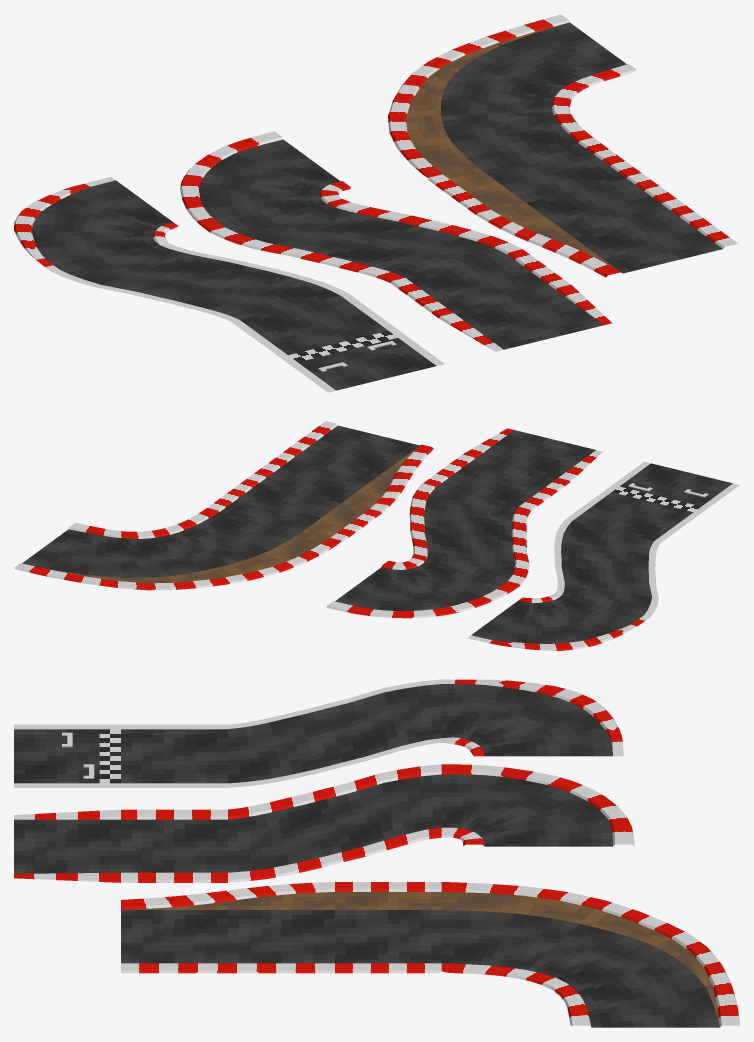
Rendered from KartTrackPieces.fbx.
3 views of the same model, one above another, from view 1: azimuth 30°, elevation 25°; view 2: azimuth 150°, elevation 25°; view 3: azimuth 270°, elevation 25° (orthographic). The views are drawn at different scales.
Parts seen in each view (by area): view 1: racetrack_curve_fast, racetrack_fast_to_straight, racetrack_halfbend, track_halfbend, racetrack_straight_fast, racetrack_halfstraight, racetrack_to_track_conversion, track_halfstraight, track_finishline, racetrack_curve_out, racetrack_curve_in, track_curve_in (+1 smaller); view 2: racetrack_curve_fast, racetrack_fast_to_straight, racetrack_halfbend, track_halfbend, racetrack_straight_fast, racetrack_halfstraight, racetrack_to_track_conversion, track_halfstraight, track_finishline, racetrack_curve_out, racetrack_curve_in, track_curve_out (+1 smaller); view 3: racetrack_curve_fast, racetrack_fast_to_straight, racetrack_halfbend, track_halfbend, racetrack_straight_fast, racetrack_halfstraight, racetrack_to_track_conversion, track_halfstraight, track_finishline, racetrack_curve_in, racetrack_curve_out, track_curve_out (+1 smaller).
Part boxes in pixels (left/top/right/bottom): racetrack_curve_fast: left=388, top=14, right=636, bottom=177; racetrack_fast_to_straight: left=476, top=173, right=737, bottom=277; racetrack_halfbend: left=210, top=199, right=521, bottom=282; track_halfbend: left=51, top=243, right=347, bottom=321; racetrack_straight_fast: left=428, top=137, right=641, bottom=214; racetrack_halfstraight: left=390, top=249, right=570, bottom=318; racetrack_to_track_conversion: left=439, top=284, right=611, bottom=351; track_halfstraight: left=232, top=293, right=396, bottom=356; track_finishline: left=280, top=328, right=444, bottom=392; racetrack_curve_out: left=185, top=131, right=350, bottom=192; racetrack_curve_in: left=180, top=174, right=341, bottom=232; track_curve_in: left=14, top=215, right=167, bottom=271; racetrack_curve_fast: left=14, top=508, right=341, bottom=590; racetrack_fast_to_straight: left=247, top=421, right=433, bottom=512; racetrack_halfbend: left=409, top=483, right=530, bottom=585; track_halfbend: left=554, top=519, right=660, bottom=617; racetrack_straight_fast: left=207, top=479, right=381, bottom=541; racetrack_halfstraight: left=423, top=454, right=570, bottom=510; racetrack_to_track_conversion: left=463, top=428, right=602, bottom=481; track_halfstraight: left=565, top=490, right=699, bottom=542; track_finishline: left=605, top=461, right=739, bottom=513; racetrack_curve_out: left=326, top=560, right=435, bottom=618; racetrack_curve_in: left=403, top=558, right=520, bottom=616; track_curve_out: left=467, top=597, right=572, bottom=650; racetrack_curve_fast: left=441, top=882, right=739, bottom=1027; racetrack_fast_to_straight: left=121, top=882, right=334, bottom=973; racetrack_halfbend: left=228, top=764, right=441, bottom=882; track_halfbend: left=228, top=679, right=441, bottom=787; racetrack_straight_fast: left=335, top=882, right=441, bottom=973; racetrack_halfstraight: left=121, top=809, right=227, bottom=882; racetrack_to_track_conversion: left=14, top=809, right=120, bottom=882; track_halfstraight: left=121, top=724, right=227, bottom=787; track_finishline: left=14, top=724, right=120, bottom=787; racetrack_curve_in: left=441, top=764, right=582, bottom=838; racetrack_curve_out: left=459, top=785, right=634, bottom=846; track_curve_out: left=464, top=695, right=623, bottom=756.
Size of the model in its own units: 7700 by 20 by 6788.
